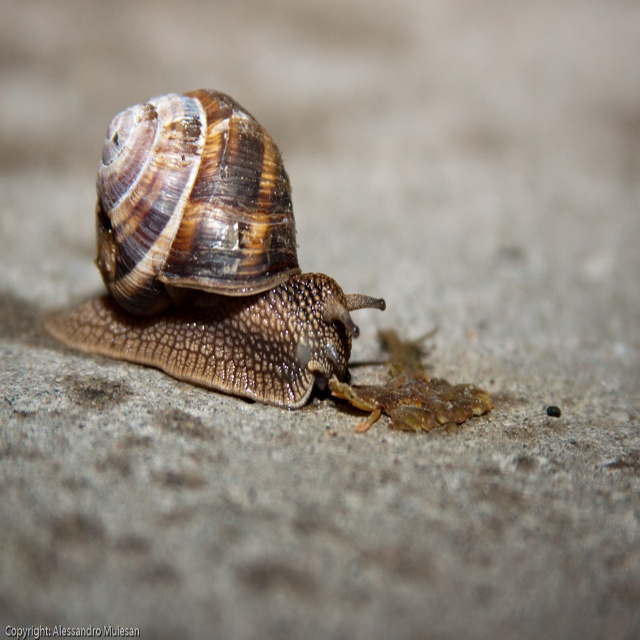Snail: (42, 77, 388, 413)
